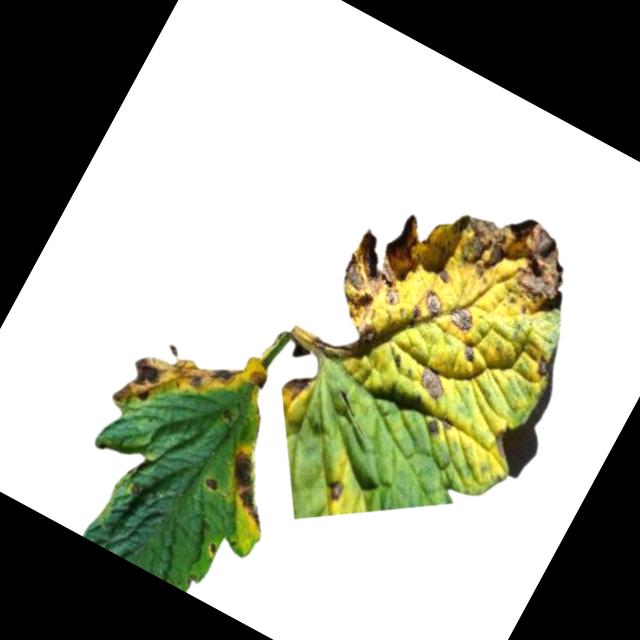Early_blight: (431, 185, 597, 329), (110, 323, 241, 449), (324, 198, 439, 336), (206, 443, 295, 535), (309, 309, 383, 379), (411, 363, 454, 405), (275, 363, 313, 406), (416, 286, 450, 322), (443, 302, 478, 336), (424, 410, 458, 444), (243, 367, 272, 396), (457, 338, 483, 364), (529, 355, 555, 381), (322, 480, 345, 504), (200, 473, 221, 496)
